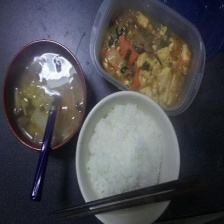rice: (85, 102, 171, 211)
